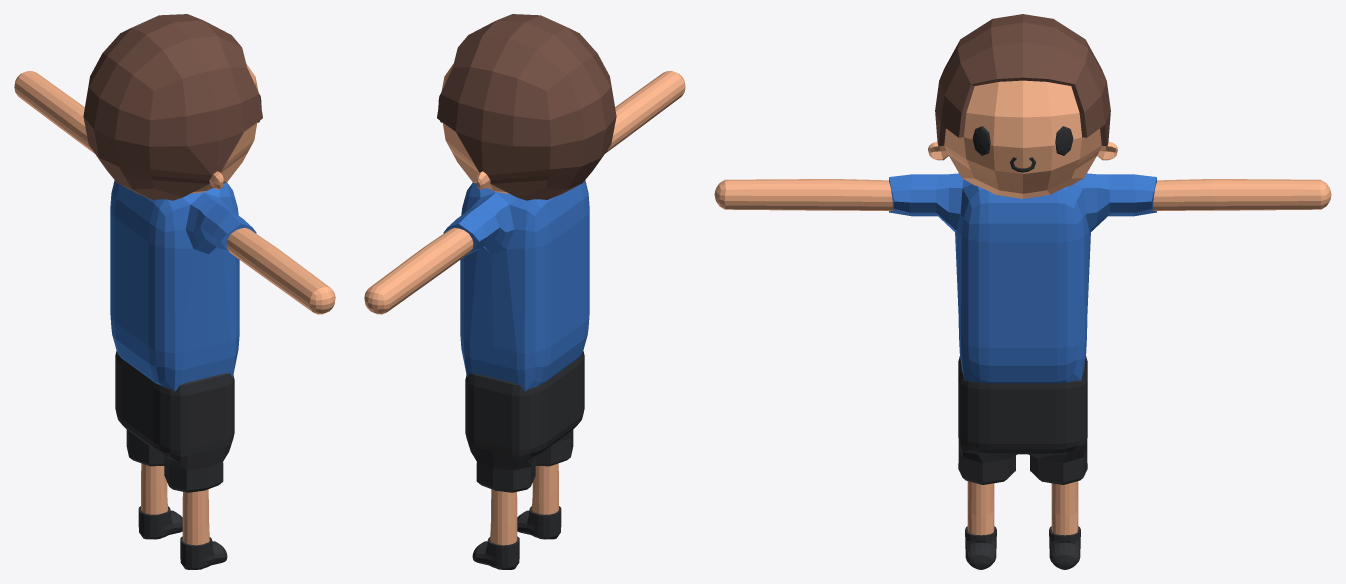
The model's file is dude.fbx.
3 renders of one model, left to right at view 1: azimuth 30°, elevation 25°; view 2: azimuth 150°, elevation 25°; view 3: azimuth 270°, elevation 25°, orthographic.
Parts seen in each view (by area): view 1: head, shirt, shorts, hands, legs; view 2: head, shirt, shorts, hands, legs; view 3: shirt, head, shorts, hands, legs, eyes.
Boxes of the visible parts, x1,y1,x2,y2 form: head: [83, 14, 262, 200]; shirt: [110, 180, 256, 391]; shorts: [115, 351, 234, 492]; hands: [14, 71, 335, 314]; legs: [138, 463, 227, 569]; head: [437, 14, 616, 200]; shirt: [443, 180, 589, 391]; shorts: [465, 351, 584, 492]; hands: [364, 71, 685, 314]; legs: [472, 463, 561, 569]; shirt: [889, 173, 1156, 383]; head: [928, 14, 1117, 198]; shorts: [958, 356, 1087, 484]; hands: [714, 179, 1331, 210]; legs: [965, 481, 1080, 569]; eyes: [972, 126, 1073, 155].
Bounding box in the file's own units: 94.96 × 307 × 321.
